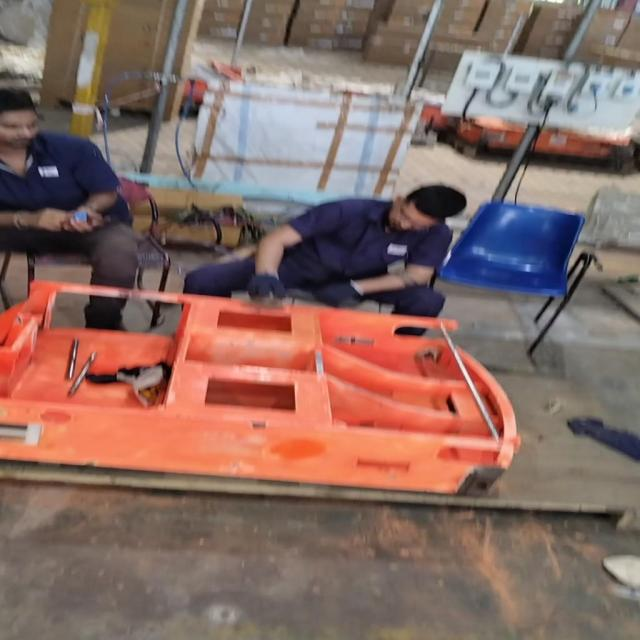Gloves-Detection: (314, 278, 360, 313), (244, 267, 282, 303)
